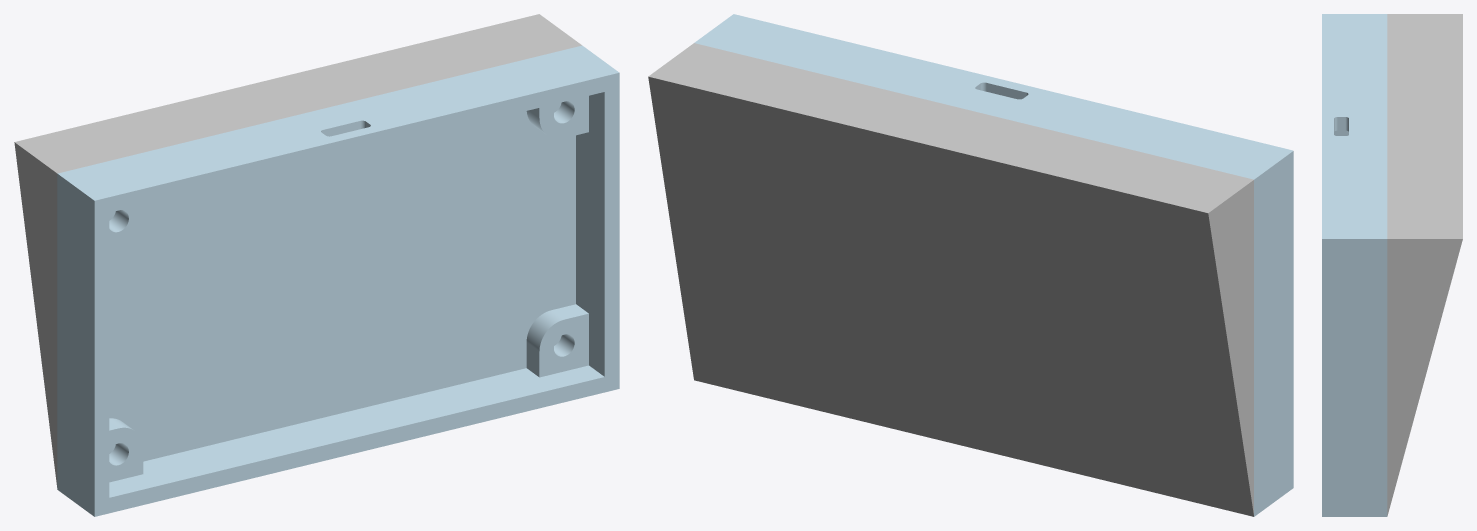
File: angled_case.gltf
3 renders of one model, left to right at view 1: azimuth 30°, elevation 25°; view 2: azimuth 150°, elevation 25°; view 3: azimuth 270°, elevation 25°, orthographic. The views are drawn at different scales.
Visible parts, largest first — view 1: Case, Part 2; view 2: Part 2, Case; view 3: Case, Part 2.
Part boxes in pixels (box(x1,y1,x2,y2)): Case: box(57, 45, 619, 516); Part 2: box(14, 14, 581, 487); Part 2: box(648, 43, 1253, 516); Case: box(694, 14, 1293, 516); Case: box(1322, 14, 1387, 516); Part 2: box(1387, 14, 1462, 515).
Size of the model in its own units: 0.106 by 0.061 by 0.028.
